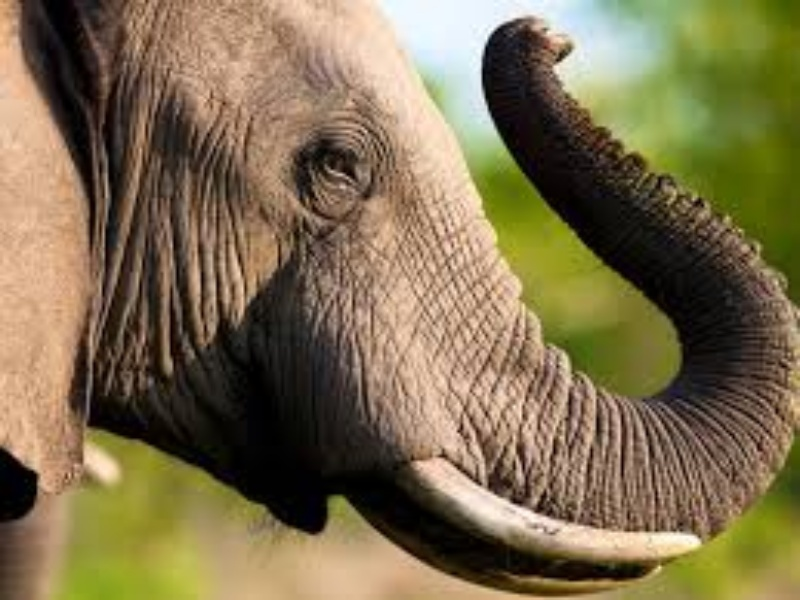elephant: (2, 1, 800, 597)
